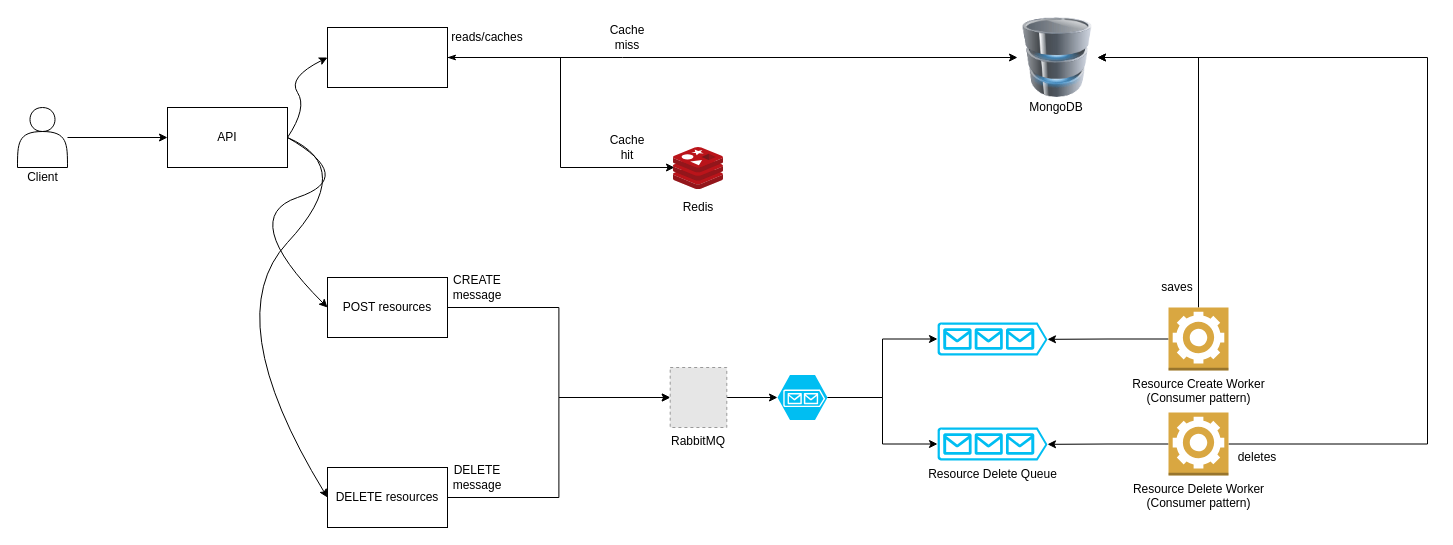
This 1453x545 diagram has some shape labels left out. Grey dashed boxes stand in for pictures. Each missing label, with the centre of its shape:
"GET resources" goes at point (387, 57).
"Resource Create Queue" goes at point (992, 338).
"Resource exchange (Direct)" goes at point (802, 397).
